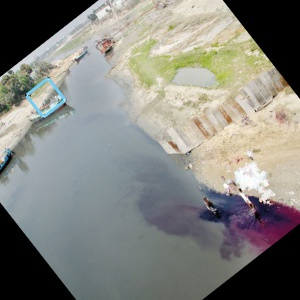square: (23, 74, 68, 120)
